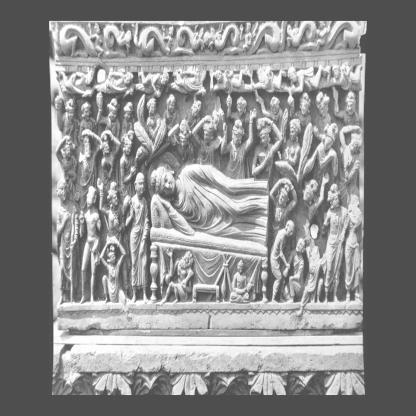buddha-sleeping: (150, 163, 269, 304)
